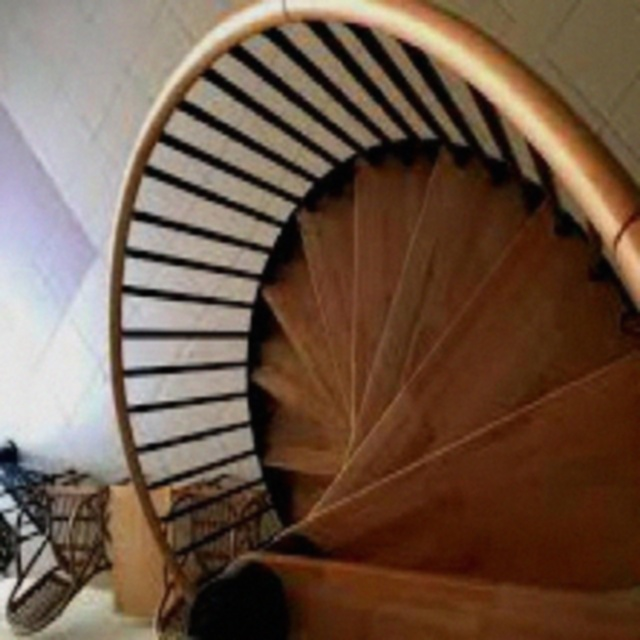stair: (48, 0, 638, 637)
